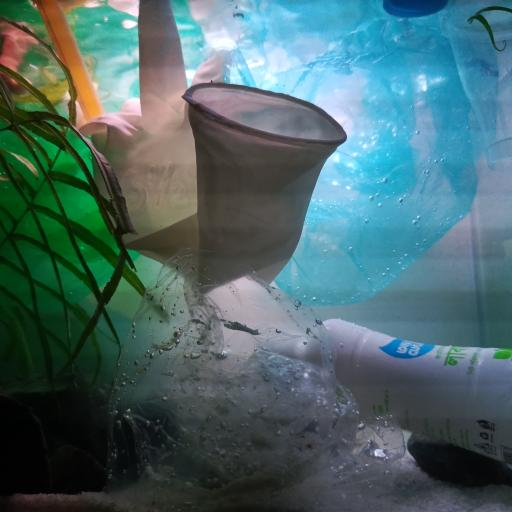bottle_cap: (385, 0, 450, 18)
glove: (72, 1, 349, 293)
plastic_bag: (196, 0, 498, 307), (94, 247, 407, 512), (0, 110, 140, 320)
plastic_bottle: (271, 317, 512, 466)
plastic_cup: (439, 0, 512, 170)
plastic_straw: (36, 0, 104, 120)
